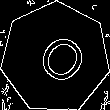O_SW: (23, 24, 87, 91)
